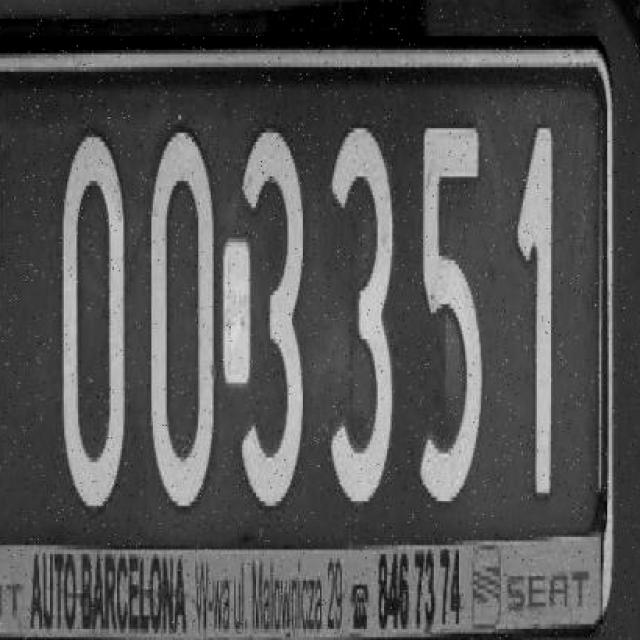licenseplate: (0, 6, 632, 640)
